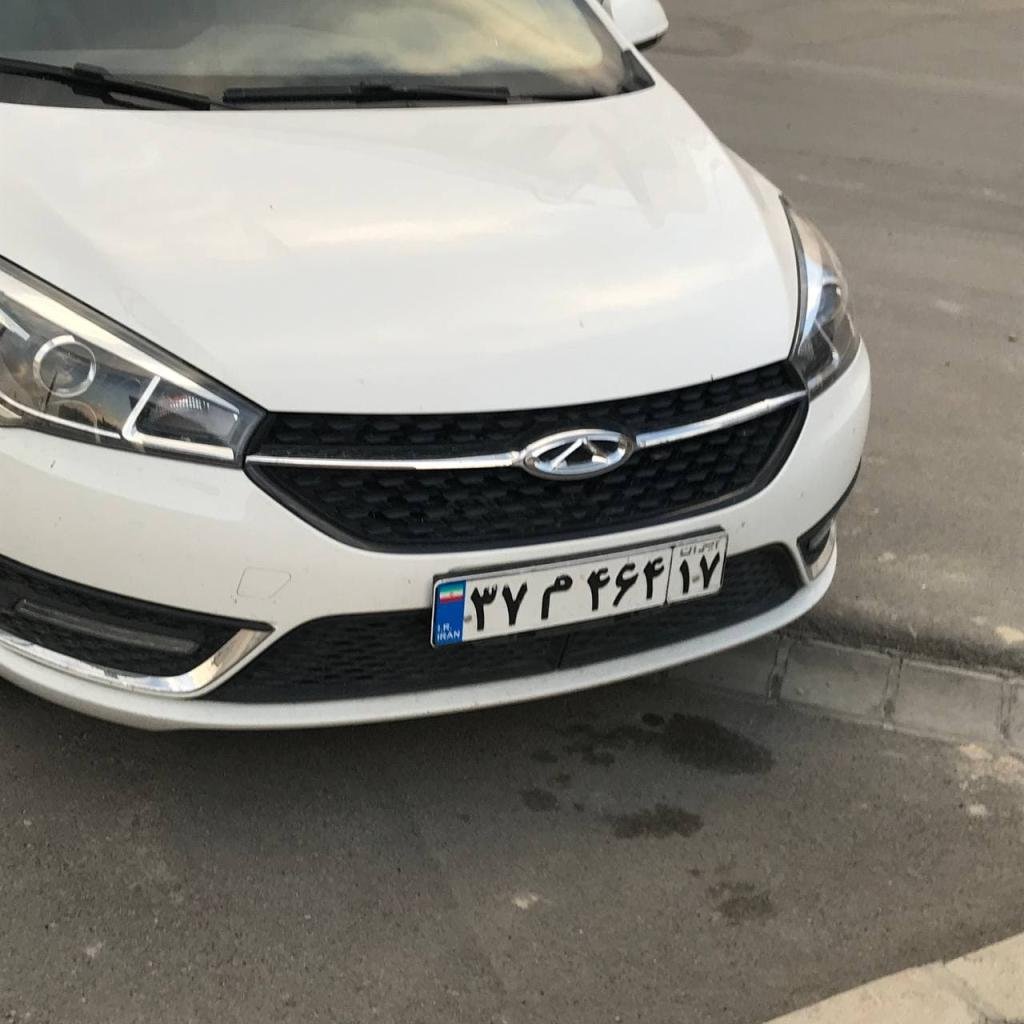Plates: (433, 535, 728, 647)
